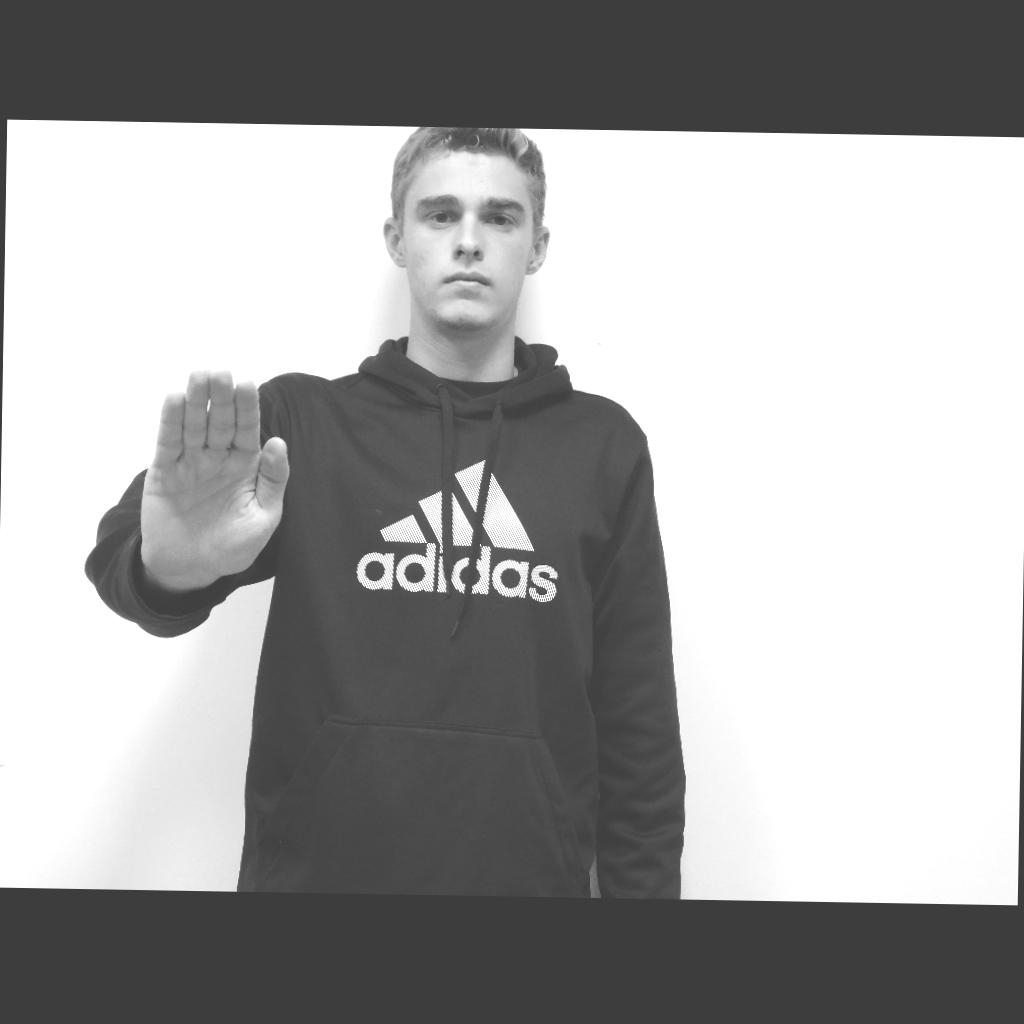your: (140, 362, 291, 578)
